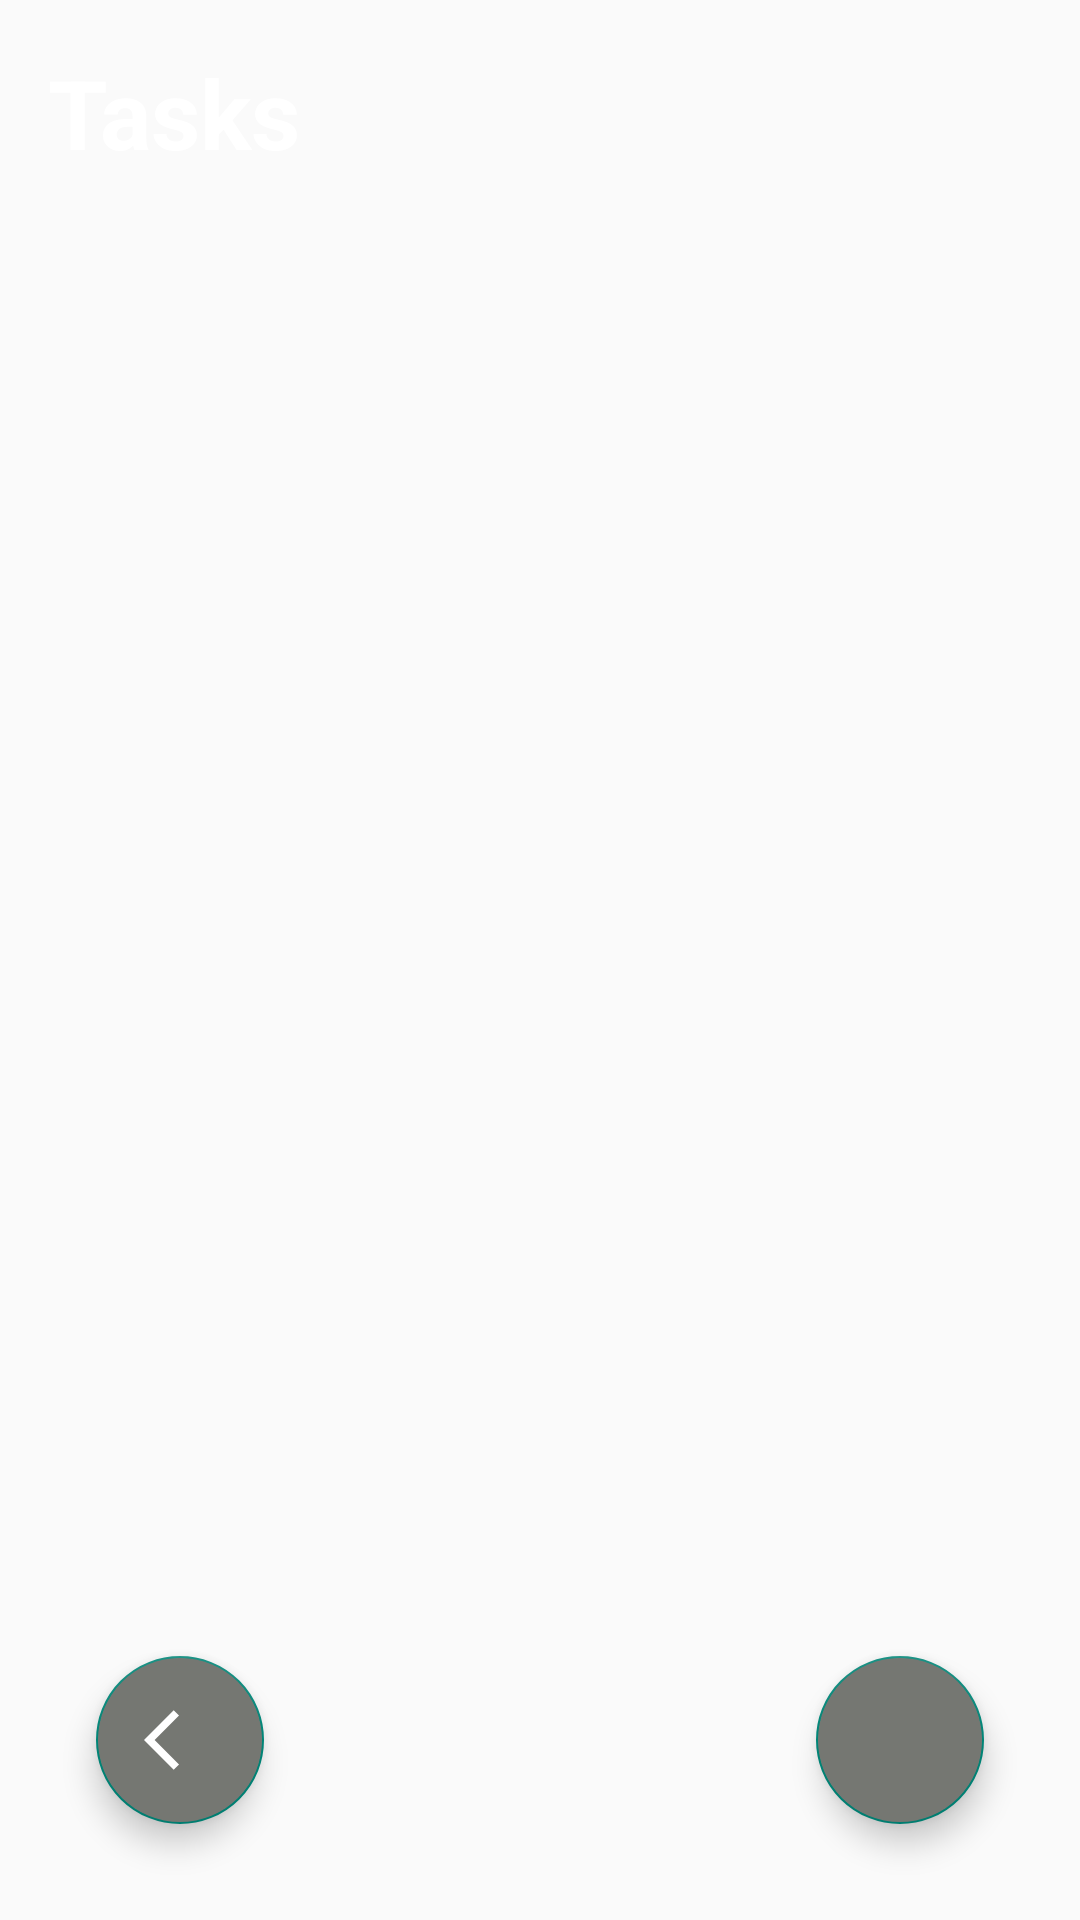

Icon bounding boxes for this 1080*1920 phone screenshot, format (x1, y1, x2, y2):
arrow back: (96, 1656, 264, 1824)
